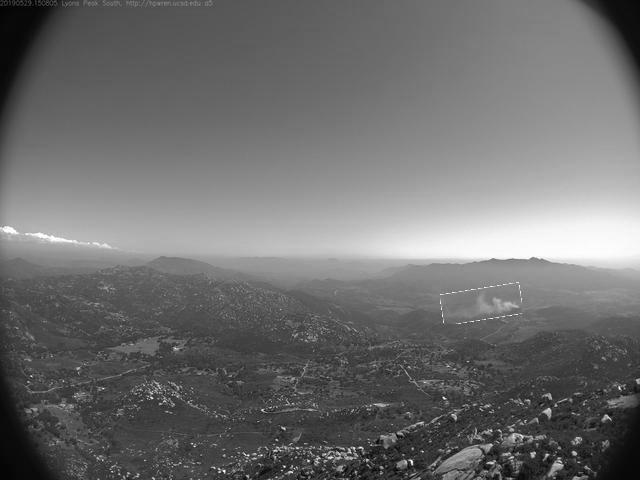smoke: (442, 286, 524, 323)
